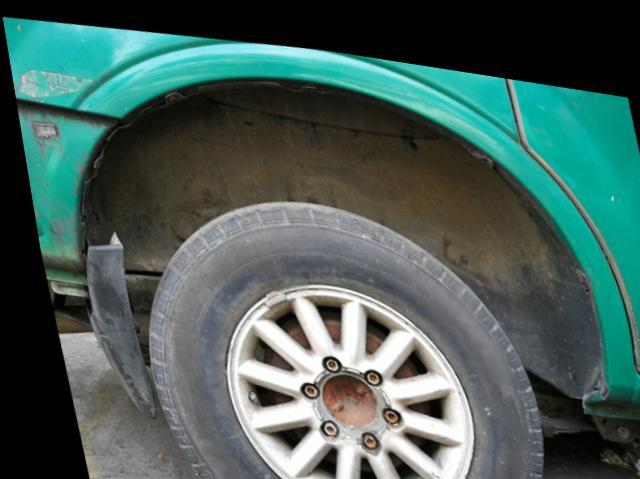tire flat: (138, 192, 531, 479)
